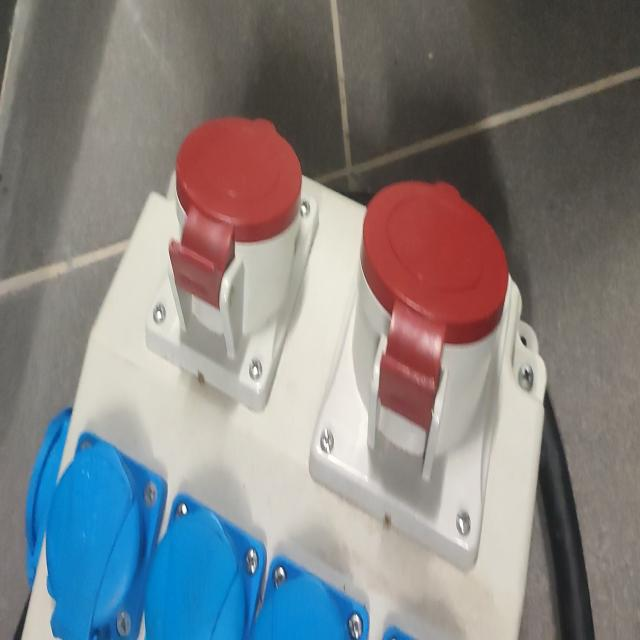400v socket: (311, 182, 511, 572), (146, 117, 320, 411)
house plug covered: (41, 432, 170, 640), (145, 488, 268, 640), (27, 403, 77, 591), (250, 562, 370, 640)
